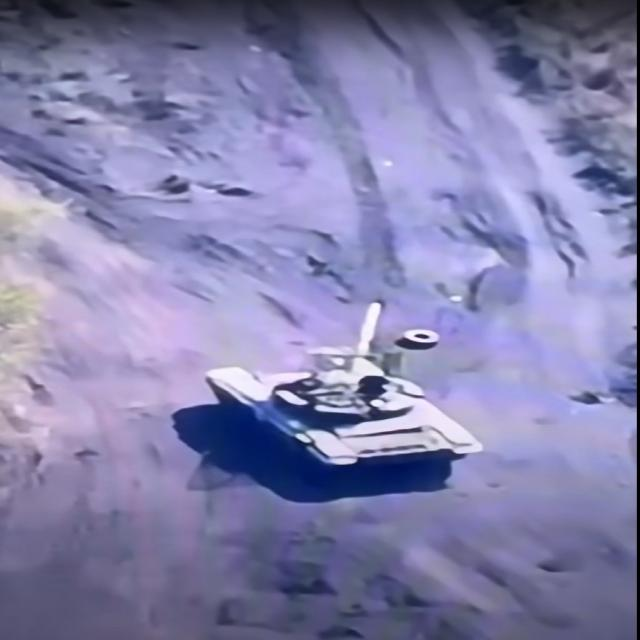MBT: (204, 301, 493, 504)
